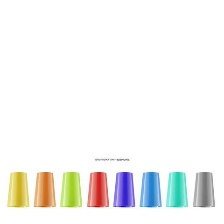glass: (190, 169, 219, 209), (4, 169, 32, 210), (31, 169, 59, 209), (163, 171, 191, 211), (112, 168, 138, 211), (57, 169, 82, 211), (85, 169, 109, 211), (138, 169, 163, 209)
